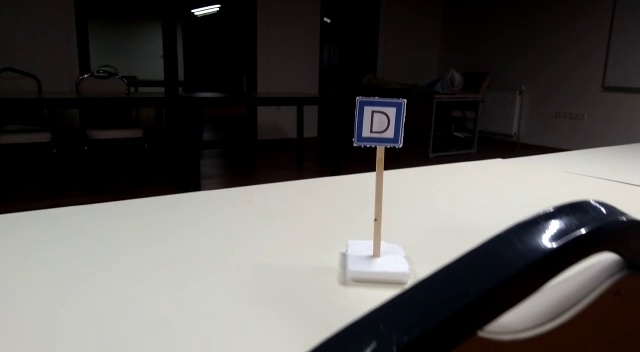durak: (354, 96, 404, 144)
